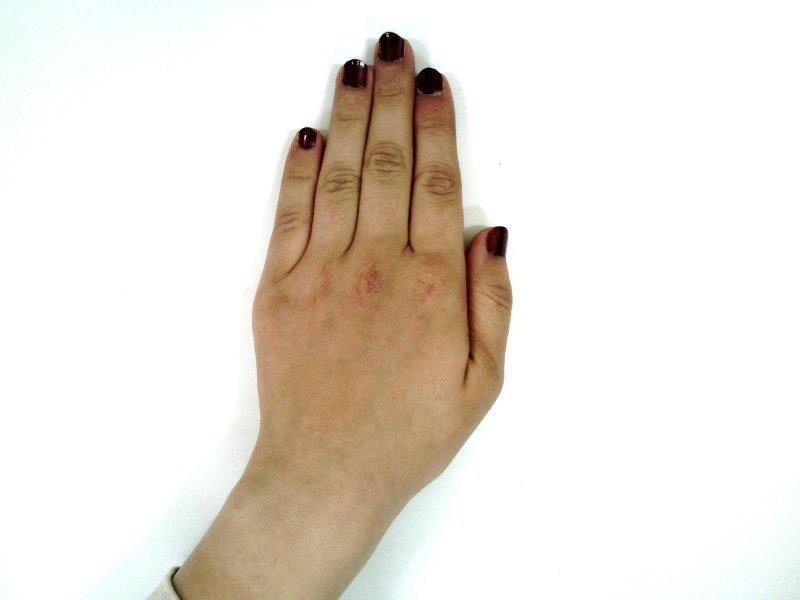hand: (251, 32, 514, 456)
